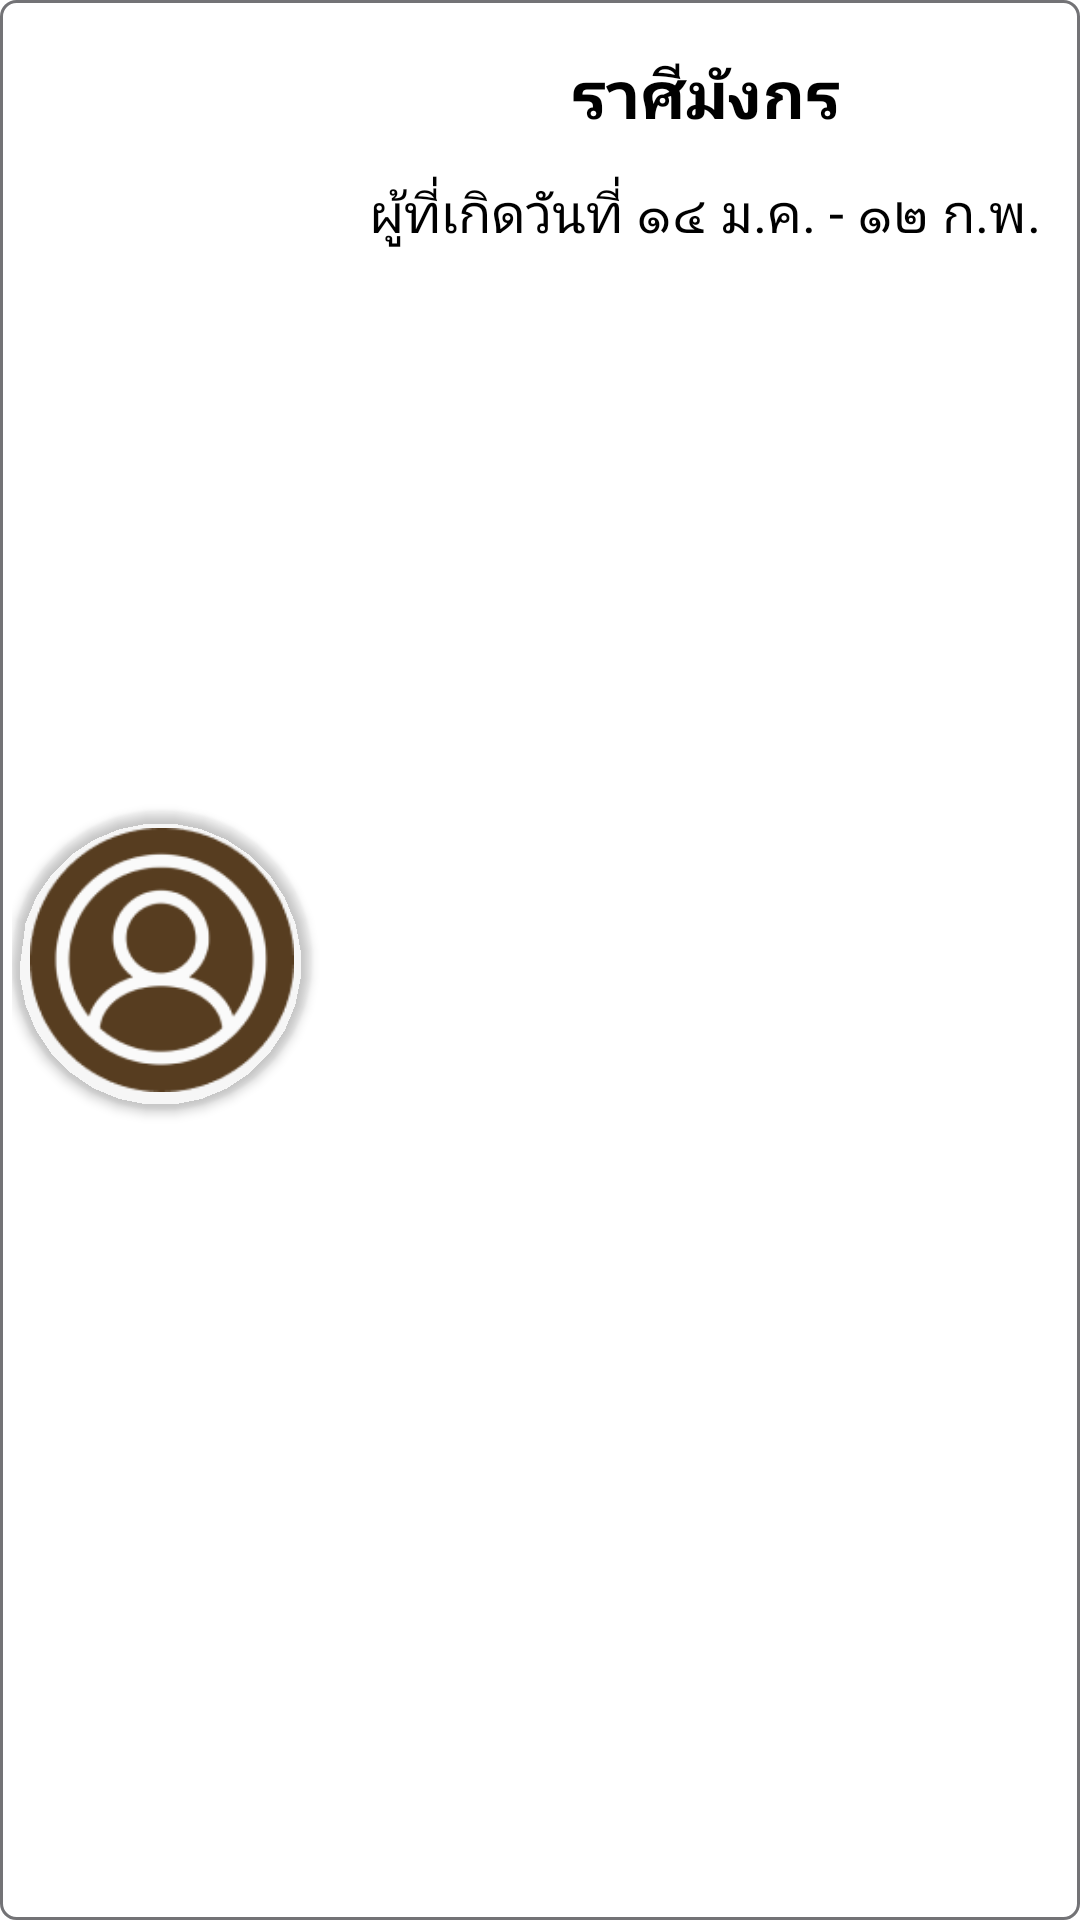

Locate icon controls on the screen. Image size 1080px×1920px, boxes as (x1, y1, x2, y2).
profile: (12, 813, 311, 1110)
